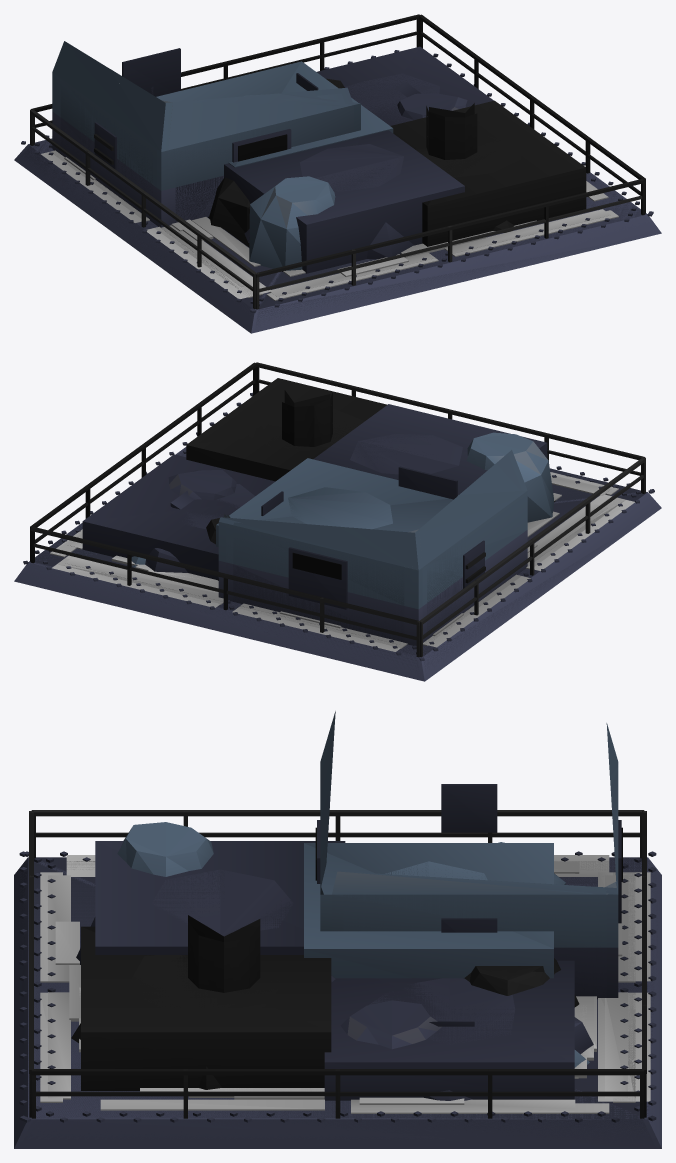
Rendered from veyran_radar_heavily_damaged.glb.
The picture shows the model from 3 angles, top to bottom: view 1: azimuth 30°, elevation 25°; view 2: azimuth 150°, elevation 25°; view 3: azimuth 270°, elevation 25°; orthographic projection. The views are drawn at different scales.
Parts seen in each view (by area): view 1: body (×3); view 2: body (×3); view 3: body (×3).
Part boxes in pixels (box(x1,y1,x2,y2)): body (×3): box(14, 14, 661, 333); body (×3): box(14, 362, 661, 681); body (×3): box(14, 711, 661, 1148).
Size of the model in its own units: 7.4 by 2.35 by 7.4.
